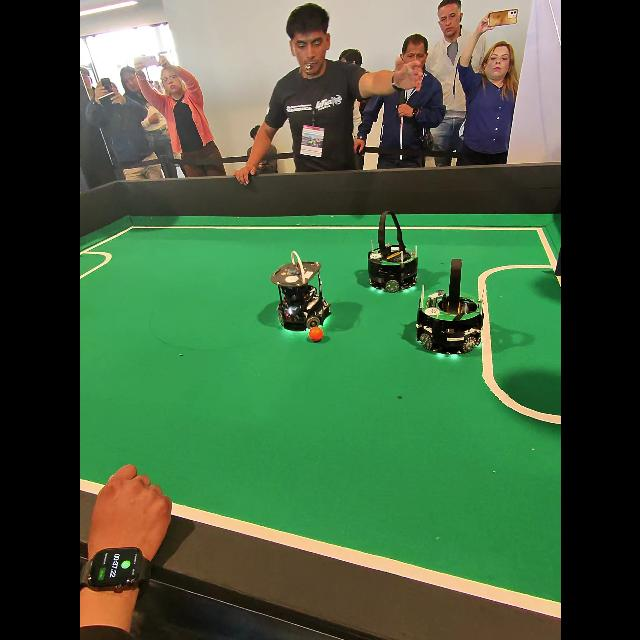ball: (308, 326, 322, 342)
robot: (416, 259, 483, 354), (270, 251, 330, 331), (367, 211, 417, 292)
